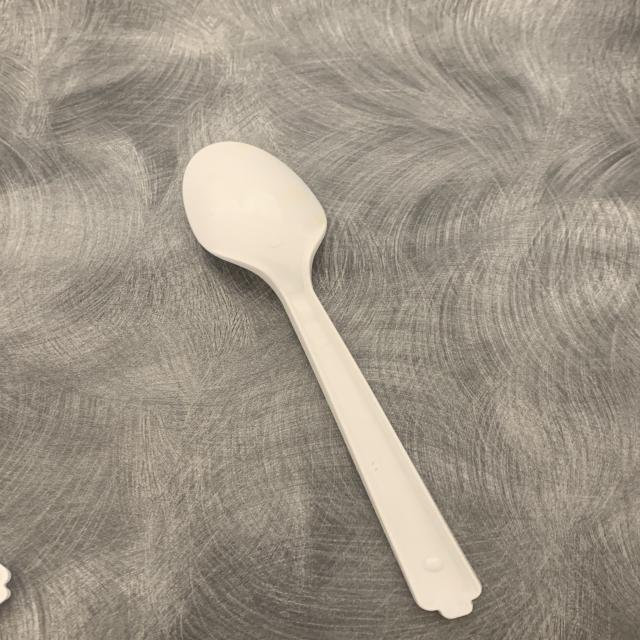spoon: (136, 136, 528, 630)
